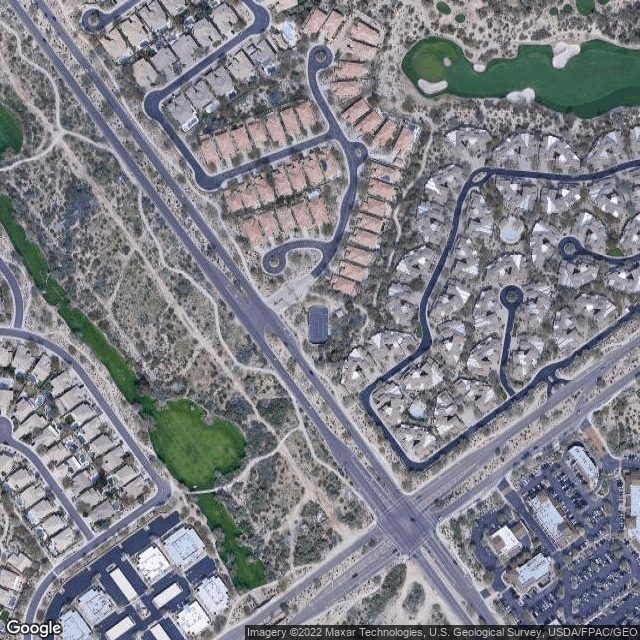Court: (312, 312, 325, 340)
